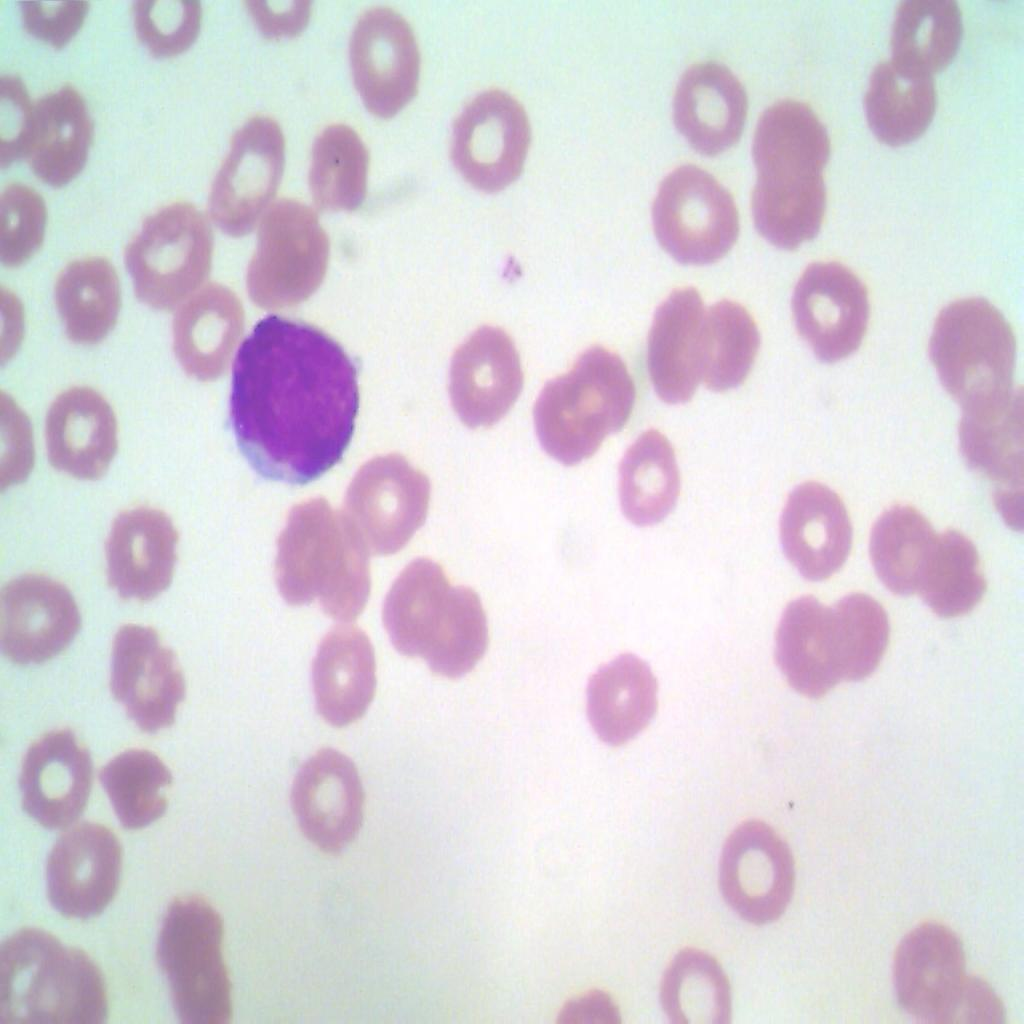Eritrosit: (643, 154, 744, 264), (570, 644, 666, 758), (251, 198, 339, 315), (123, 205, 221, 307), (111, 621, 194, 738), (718, 802, 791, 931), (444, 318, 526, 431), (774, 474, 858, 584), (0, 569, 88, 674), (93, 722, 173, 837), (344, 15, 426, 127), (204, 122, 286, 234), (448, 92, 531, 198), (888, 912, 966, 1023), (673, 44, 749, 157), (18, 87, 100, 191), (775, 589, 846, 708), (792, 254, 874, 357), (936, 295, 1014, 402), (640, 288, 718, 395), (348, 452, 429, 555), (38, 378, 118, 481), (954, 368, 1023, 487), (373, 547, 453, 649), (290, 745, 366, 852), (170, 285, 246, 390), (48, 818, 122, 925), (852, 65, 938, 157), (828, 583, 894, 701), (748, 91, 834, 181), (19, 725, 95, 826), (914, 525, 986, 630), (694, 291, 763, 398), (108, 504, 174, 614), (306, 624, 380, 722), (648, 939, 734, 1023), (46, 257, 119, 354), (876, 0, 966, 78), (416, 591, 493, 682), (866, 500, 938, 595), (528, 371, 598, 468), (308, 512, 370, 619), (274, 488, 331, 602), (6, 924, 69, 1023), (753, 164, 826, 249), (161, 935, 230, 1023), (622, 428, 686, 520), (572, 343, 638, 431), (315, 124, 376, 218), (0, 178, 59, 274), (152, 888, 218, 972), (36, 947, 106, 1023)
Limfoblast: (226, 311, 366, 498)
Platelet: (493, 245, 530, 287)
